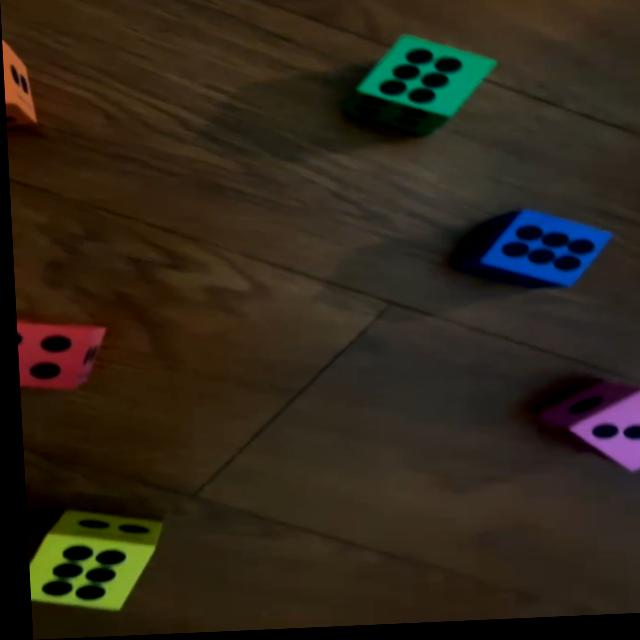blue_block: (453, 211, 610, 295)
red_block: (13, 319, 105, 391)
